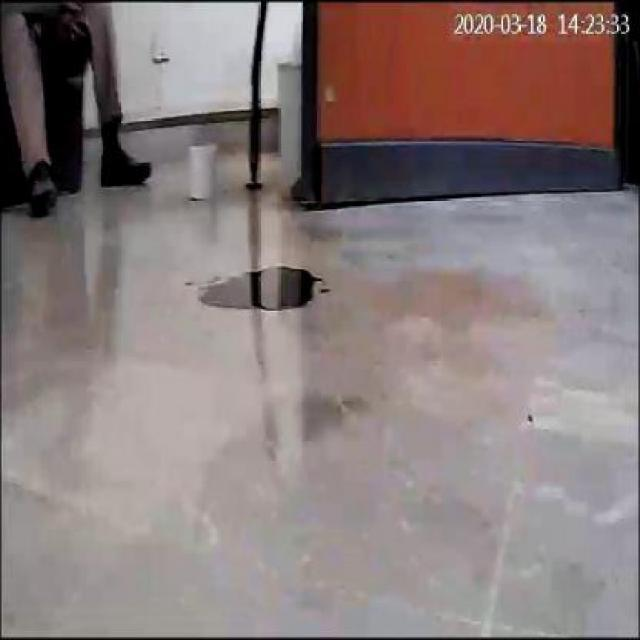spill: (194, 261, 322, 310)
